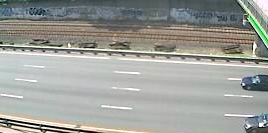car: (239, 72, 268, 94), (241, 111, 267, 133)
